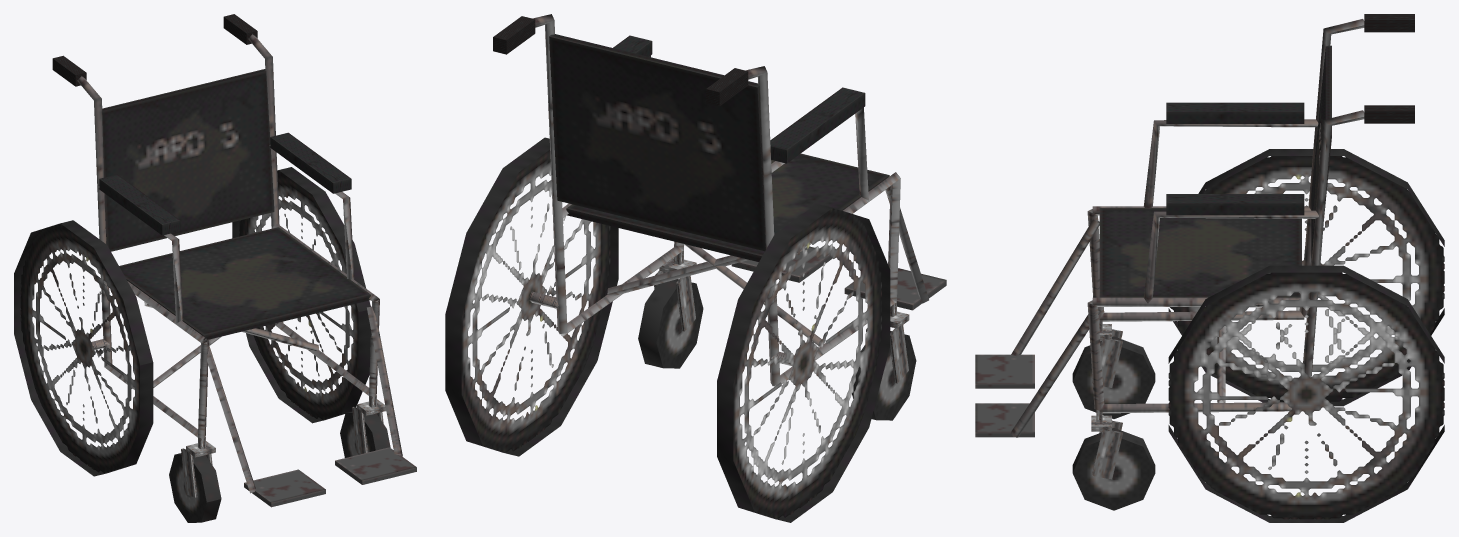
File: wheelchair.obj
The picture shows the model from 3 angles, left to right: view 1: azimuth 30°, elevation 25°; view 2: azimuth 150°, elevation 25°; view 3: azimuth 270°, elevation 25°; orthographic projection. The views are drawn at different scales.
Parts seen in each view (by area): view 1: wheelchair; view 2: wheelchair; view 3: wheelchair.
Boxes of the visible parts, x1=… form: wheelchair: x1=14, y1=14, x2=416, y2=522; wheelchair: x1=445, y1=14, x2=946, y2=522; wheelchair: x1=975, y1=14, x2=1444, y2=522.
Size of the model in its own units: 0.636 by 0.955 by 1.02.
Materials: 1 (1 with a texture image).
